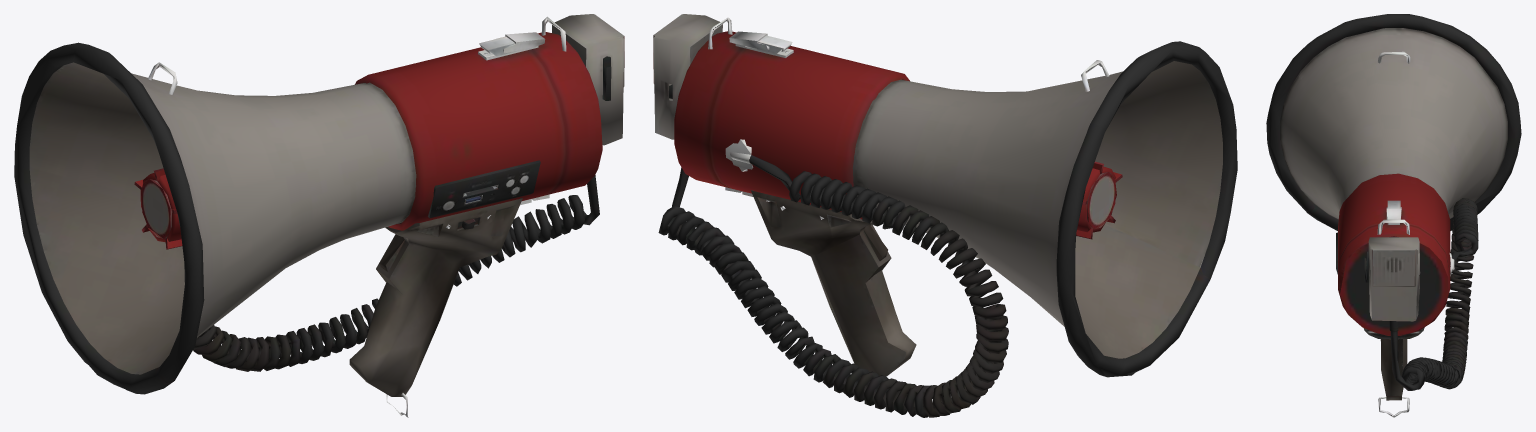
Rendered from Megaphone_01.glb.
The picture shows the model from 3 angles, left to right: view 1: azimuth 30°, elevation 25°; view 2: azimuth 150°, elevation 25°; view 3: azimuth 270°, elevation 25°; orthographic projection. The views are drawn at different scales.
Parts seen in each view (by area): view 1: Megaphone_01; view 2: Megaphone_01; view 3: Megaphone_01.
Part boxes in pixels (x1=…): Megaphone_01: x1=14, y1=14, x2=624, y2=417; Megaphone_01: x1=653, y1=14, x2=1237, y2=417; Megaphone_01: x1=1266, y1=14, x2=1521, y2=417.
Bounding box in the file's own units: 0.3707 × 0.3001 × 0.2284.
Materials: 1 (1 with a texture image).
